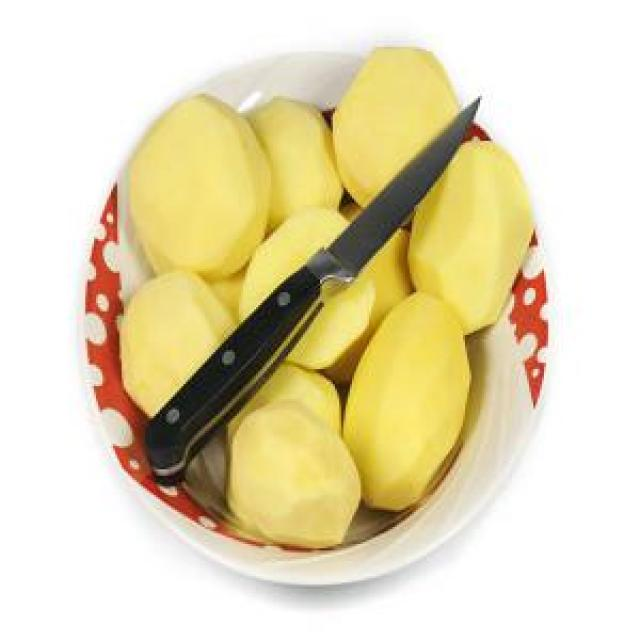knife: (143, 90, 481, 488)
